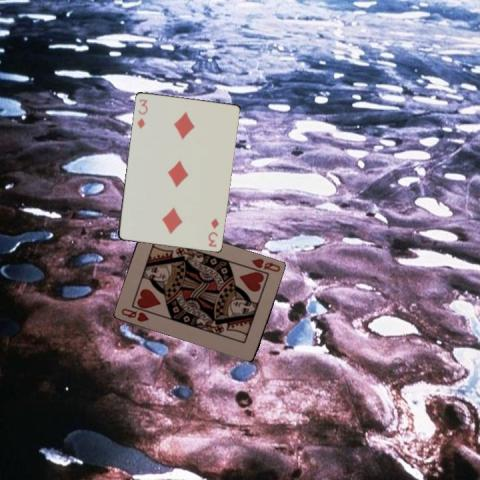3d: (134, 96, 149, 129), (205, 215, 220, 248)
Qh: (249, 255, 282, 274), (118, 305, 150, 324)
